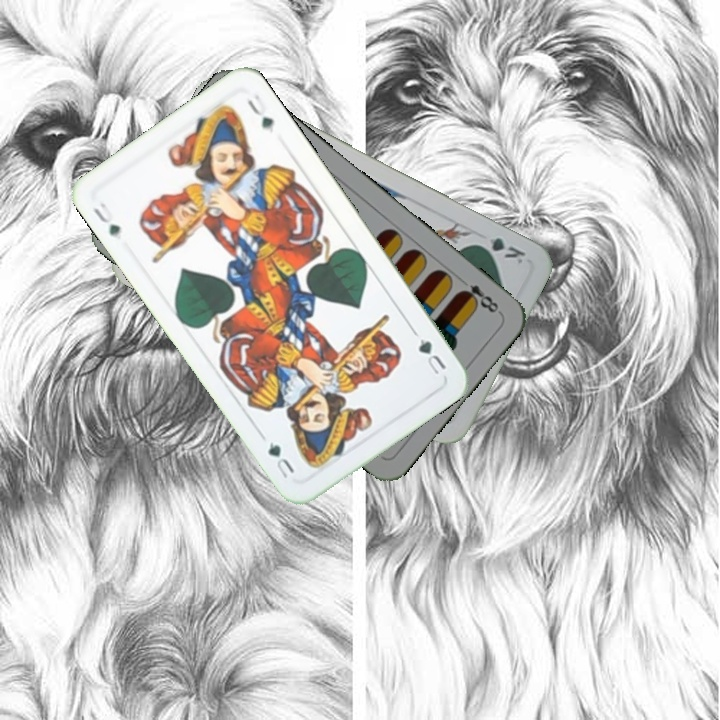E8: (455, 273, 503, 316)
GK: (471, 233, 528, 267)
GU: (414, 334, 449, 377), (88, 198, 123, 239)
